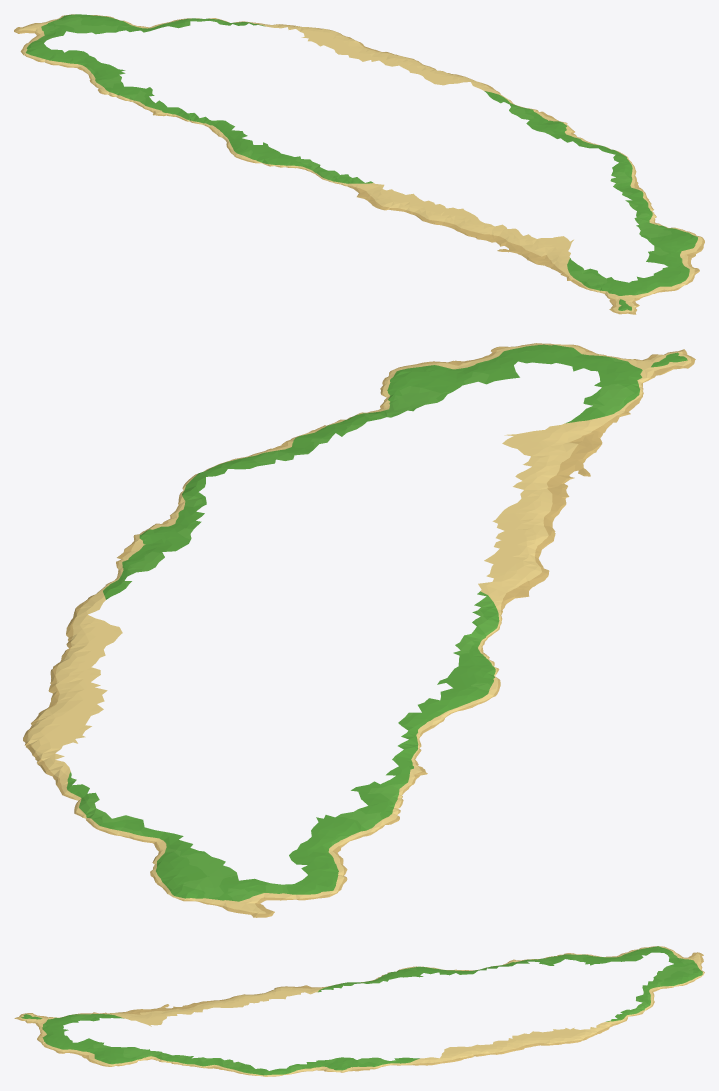
Rendered from Isl-long2-Ground.fbx.
3 views of the same model, one above another, from view 1: azimuth 30°, elevation 25°; view 2: azimuth 150°, elevation 25°; view 3: azimuth 270°, elevation 25° (orthographic). The views are drawn at different scales.
Parts seen in each view (by area): view 1: Isl-long2-Ground-c11, Isl-long2-Ground-c12, Isl-long2-Ground-c21, Isl-long2-Ground-c22, Isl-long2-Ground-c13, Isl-long2-Ground-c10, Isl-long2-Ground-c20; view 2: Isl-long2-Ground-c12, Isl-long2-Ground-c11, Isl-long2-Ground-c21, Isl-long2-Ground-c22, Isl-long2-Ground-c13, Isl-long2-Ground-c10, Isl-long2-Ground-c20; view 3: Isl-long2-Ground-c21, Isl-long2-Ground-c12, Isl-long2-Ground-c22, Isl-long2-Ground-c11, Isl-long2-Ground-c13, Isl-long2-Ground-c20, Isl-long2-Ground-c10.
Boxes of the visible parts, x1,y1,x2,y2 form: Isl-long2-Ground-c11: (311, 167, 629, 295); Isl-long2-Ground-c12: (20, 18, 320, 171); Isl-long2-Ground-c21: (522, 114, 704, 287); Isl-long2-Ground-c22: (273, 24, 547, 118); Isl-long2-Ground-c13: (14, 14, 124, 46); Isl-long2-Ground-c10: (606, 286, 643, 314); Isl-long2-Ground-c20: (636, 272, 695, 296); Isl-long2-Ground-c12: (52, 634, 500, 898); Isl-long2-Ground-c11: (471, 367, 647, 641); Isl-long2-Ground-c21: (124, 346, 607, 557); Isl-long2-Ground-c22: (23, 552, 164, 776); Isl-long2-Ground-c13: (150, 859, 313, 917); Isl-long2-Ground-c10: (606, 349, 695, 380); Isl-long2-Ground-c20: (508, 343, 622, 366); Isl-long2-Ground-c21: (52, 1024, 364, 1076); Isl-long2-Ground-c12: (363, 946, 673, 1027); Isl-long2-Ground-c22: (361, 1024, 609, 1070); Isl-long2-Ground-c11: (53, 982, 363, 1025); Isl-long2-Ground-c13: (667, 949, 704, 987); Isl-long2-Ground-c20: (37, 1025, 58, 1050); Isl-long2-Ground-c10: (14, 1013, 58, 1027).
Bounding box in the file's own units: 59.9 × 0.4899 × 134.
